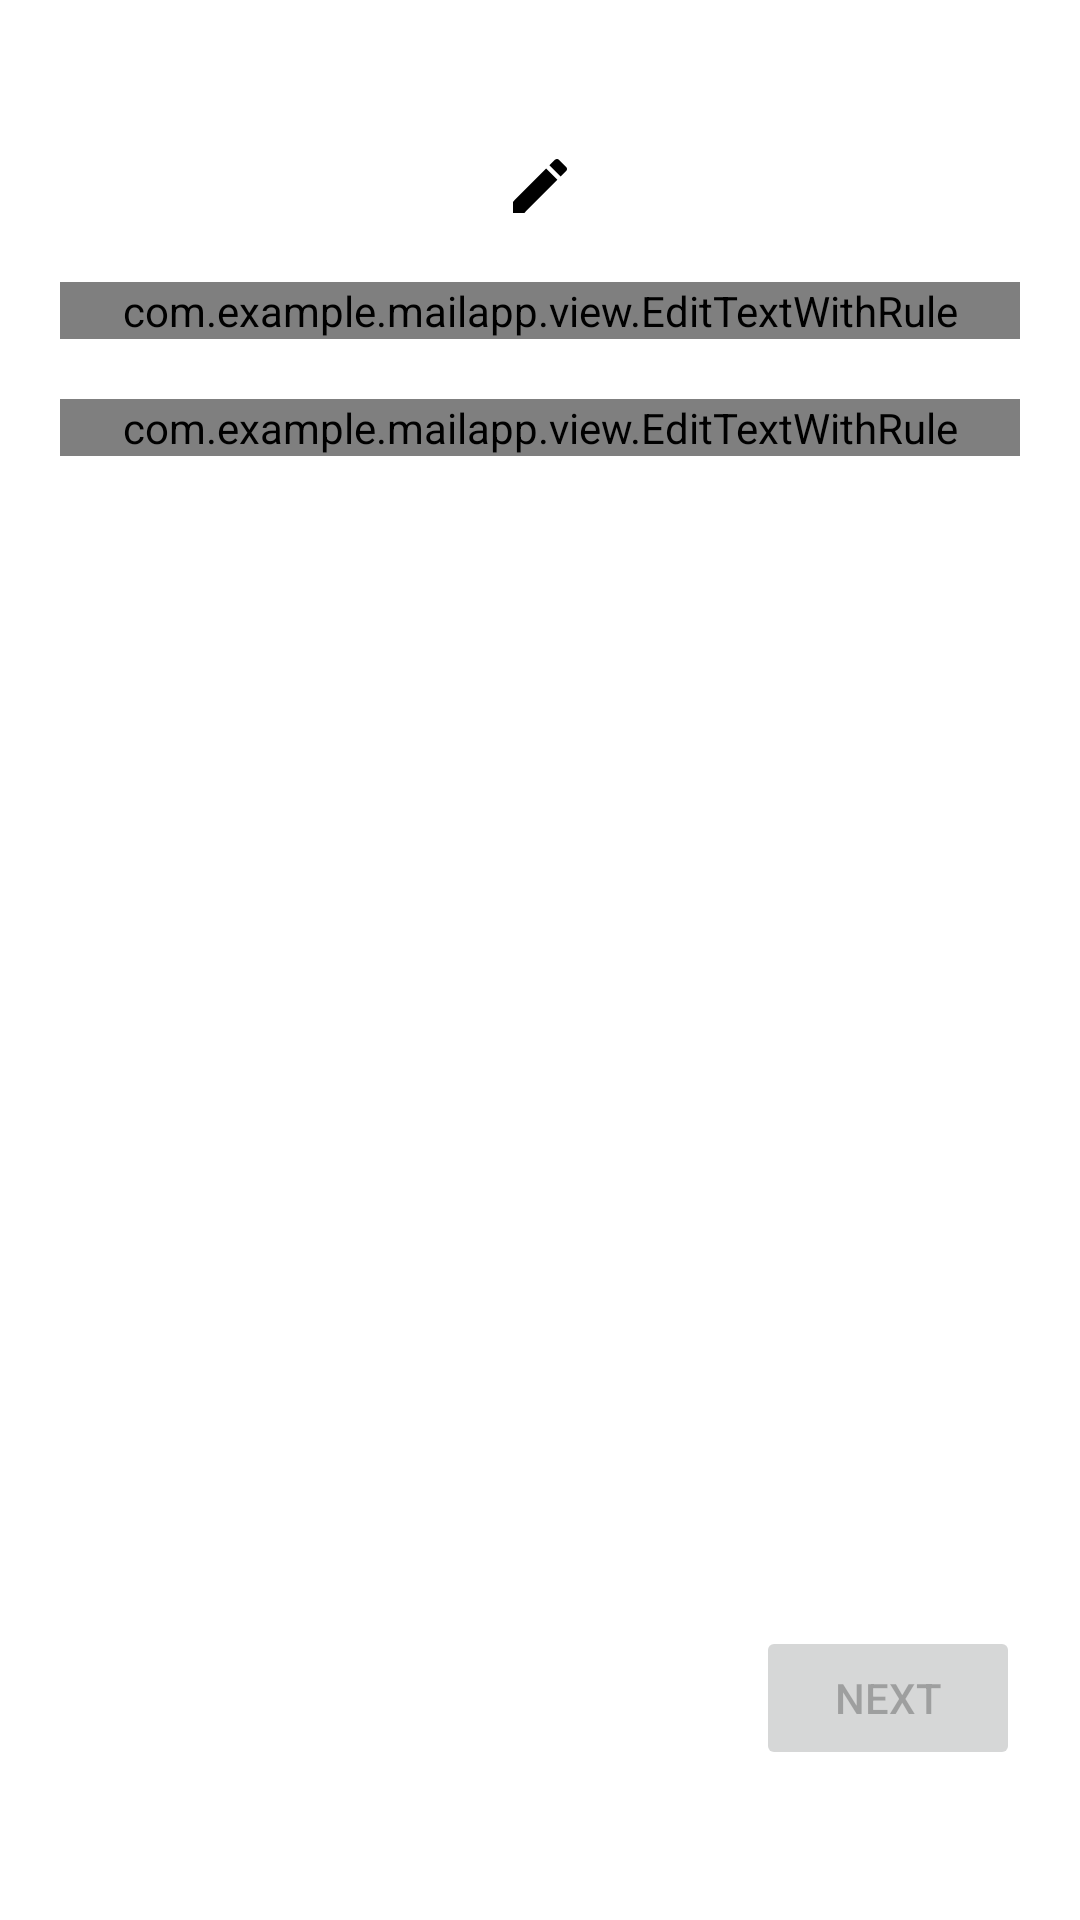

Icon click points for this 1080 × 1920 phone screenshot, format [x,y]:
create: [540,186]
